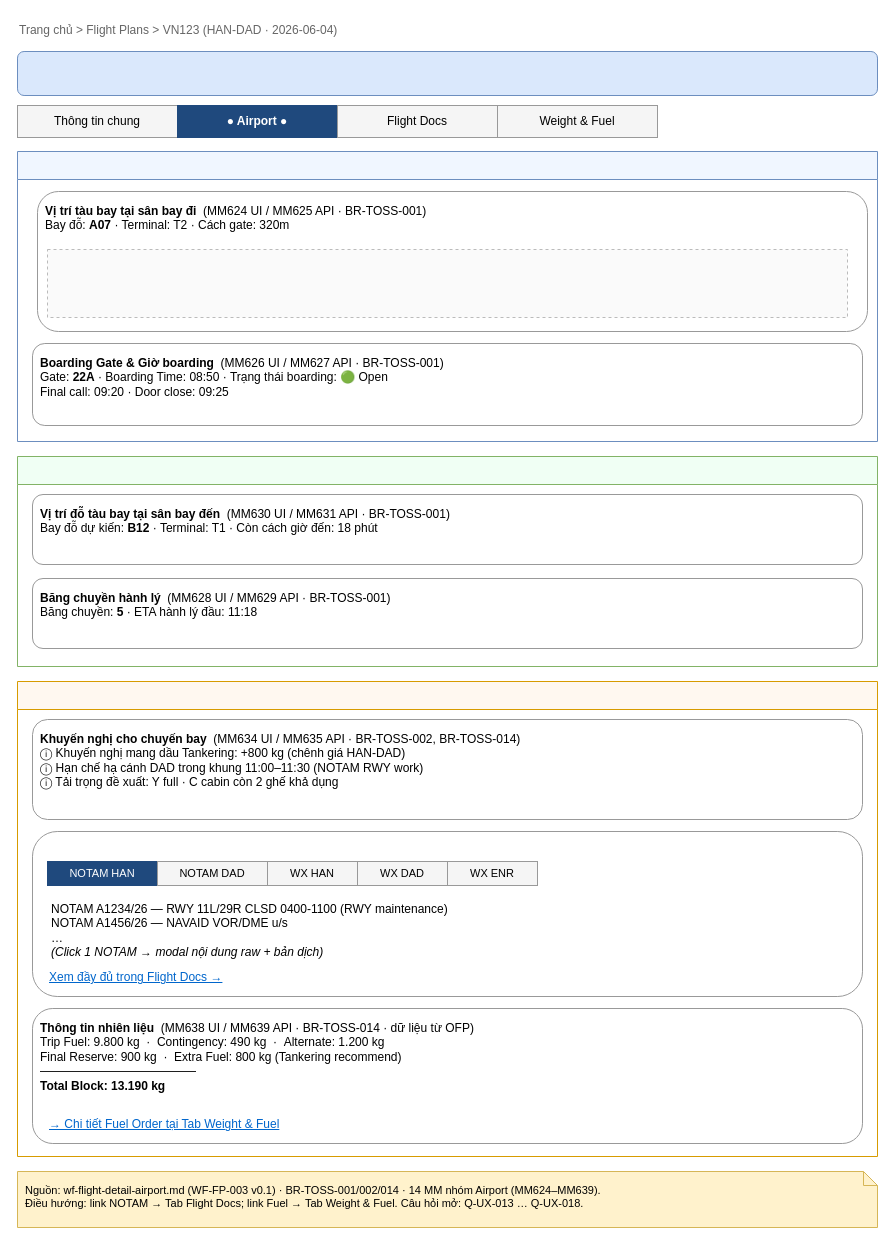
This 895x1245 diagram has some shape labels left out. The box of each missing label's shape, as (x1, y1, x2, y2) in pixels:
[ Sơ đồ sân bay — hiển thị vị trí bay đỗ A07 ]: (46, 248, 848, 318)
Khuyến nghị · NOTAM & Thời tiết · Nhiên liệu: (16, 680, 878, 1156)
NOTAM & Weather (MM636 UI / MM637 API · BR-TOSS-001): (32, 830, 862, 996)
Sân bay đi: HAN (Nội Bài): (16, 150, 878, 442)
Sân bay đến: DAD (Đà Nẵng): (16, 456, 878, 666)
VN123 HAN ► DAD · STD 09:30 · A350 VN-A892 · 🟢 Boarded: (16, 50, 878, 96)
